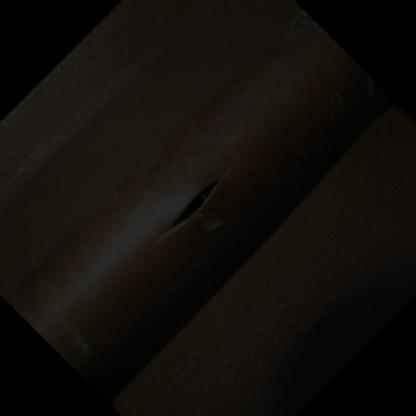burst: (155, 166, 233, 232)
